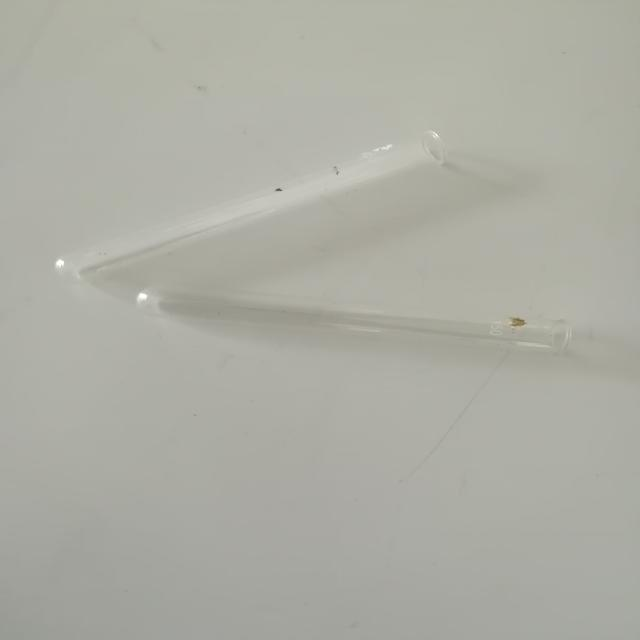Test_Tube: (25, 118, 478, 302), (130, 281, 570, 393)
